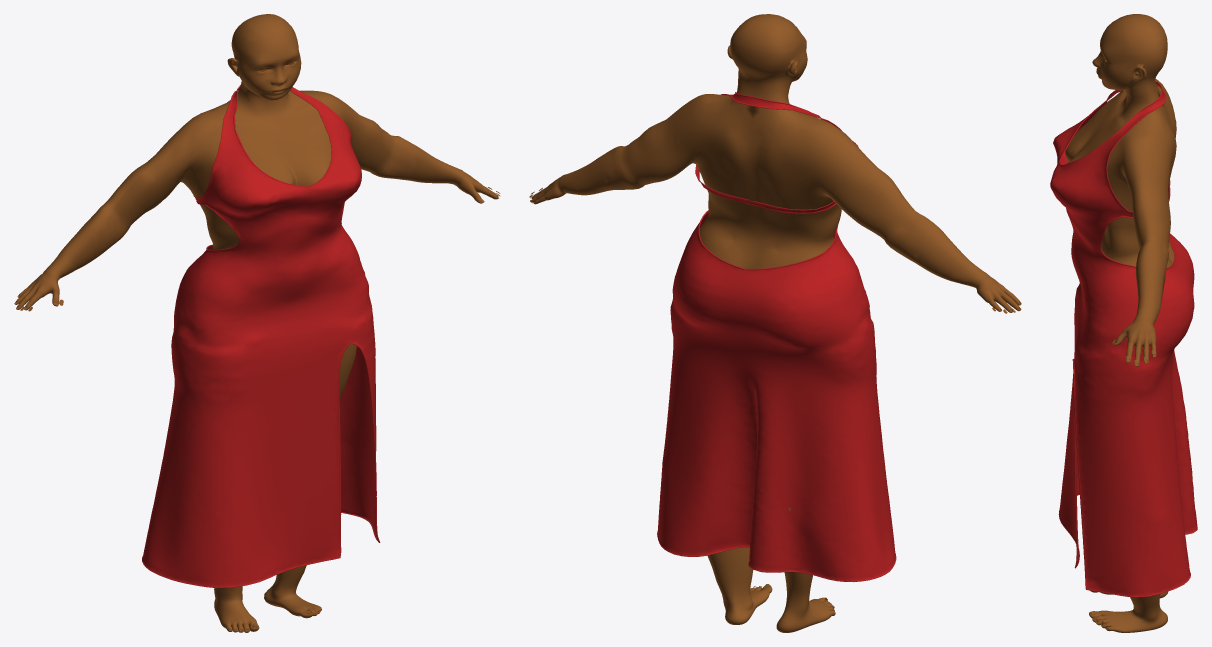
Rendered from dress3.glb.
3 renders of one model, left to right at view 1: azimuth 30°, elevation 25°; view 2: azimuth 150°, elevation 25°; view 3: azimuth 270°, elevation 25°, orthographic.
Visible parts, largest first — view 1: EveningDress, Body; view 2: EveningDress, Body; view 3: EveningDress, Body.
Boxes of the visible parts, <box> form: EveningDress: <box>142,85,380,587</box>; Body: <box>14,14,499,632</box>; EveningDress: <box>657,92,896,582</box>; Body: <box>530,14,1021,632</box>; EveningDress: <box>1050,81,1197,597</box>; Body: <box>1065,14,1176,632</box>.
Bounding box in the file's own units: 1.59 × 1.88 × 0.4195.
